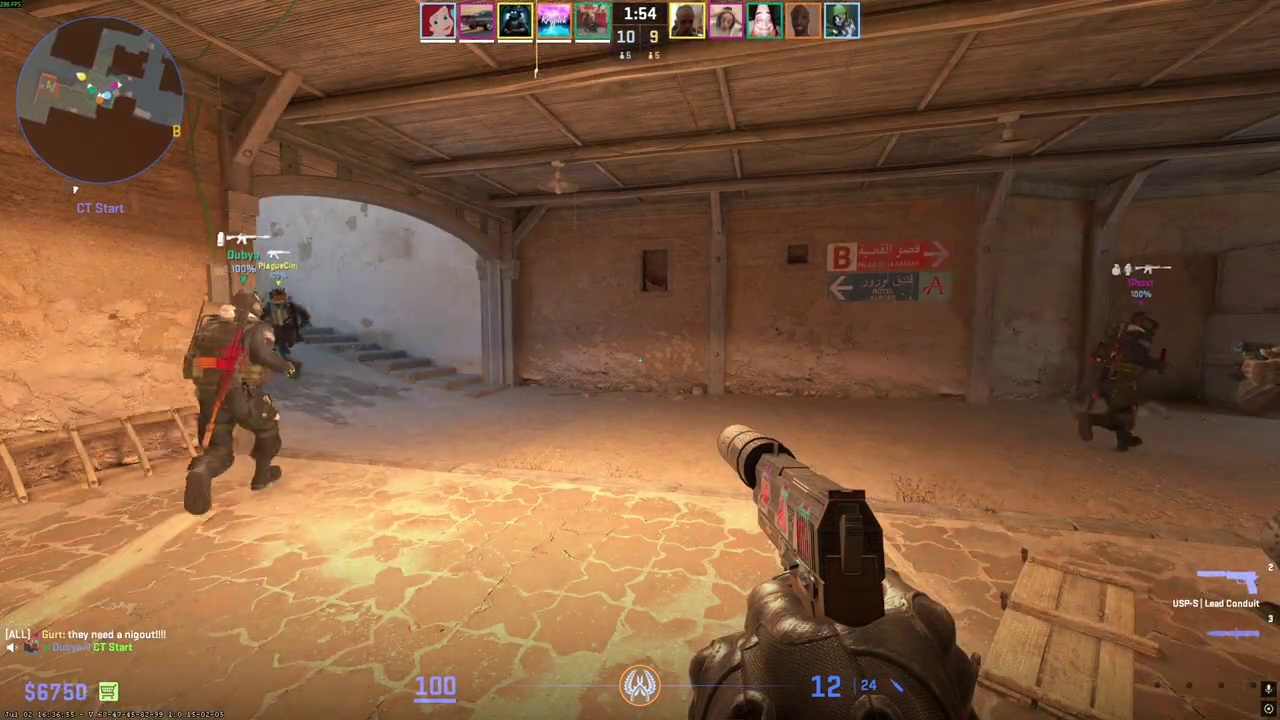CT: (182, 289, 295, 516), (1081, 309, 1163, 452), (262, 286, 310, 381)
